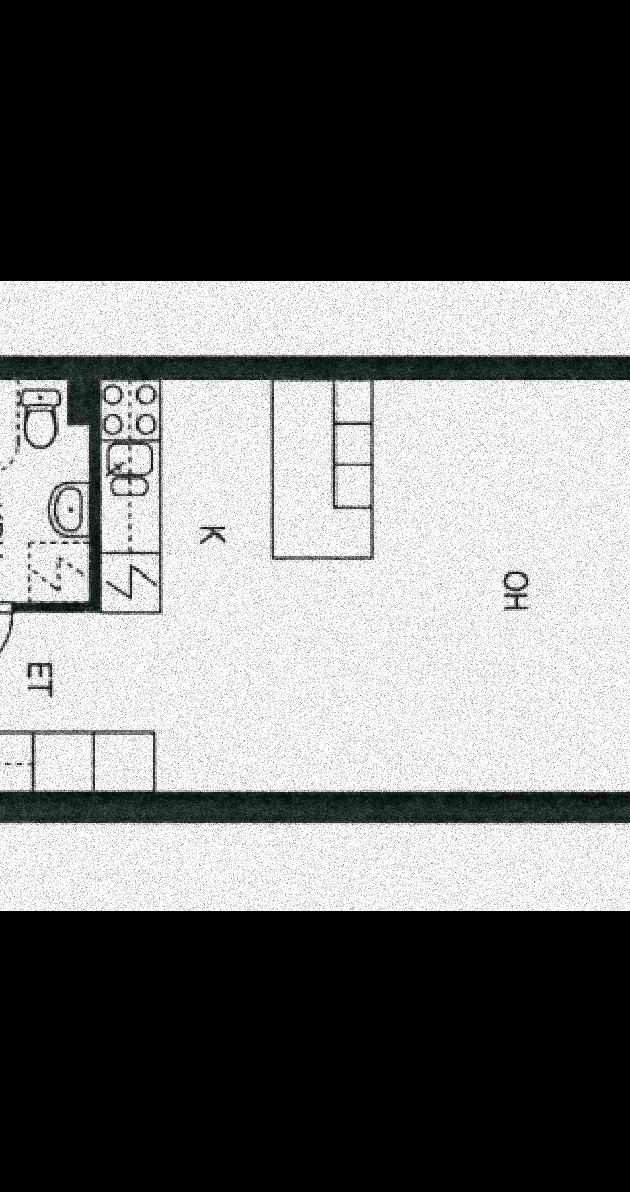zone: (0, 384, 630, 787), (0, 382, 87, 603)
